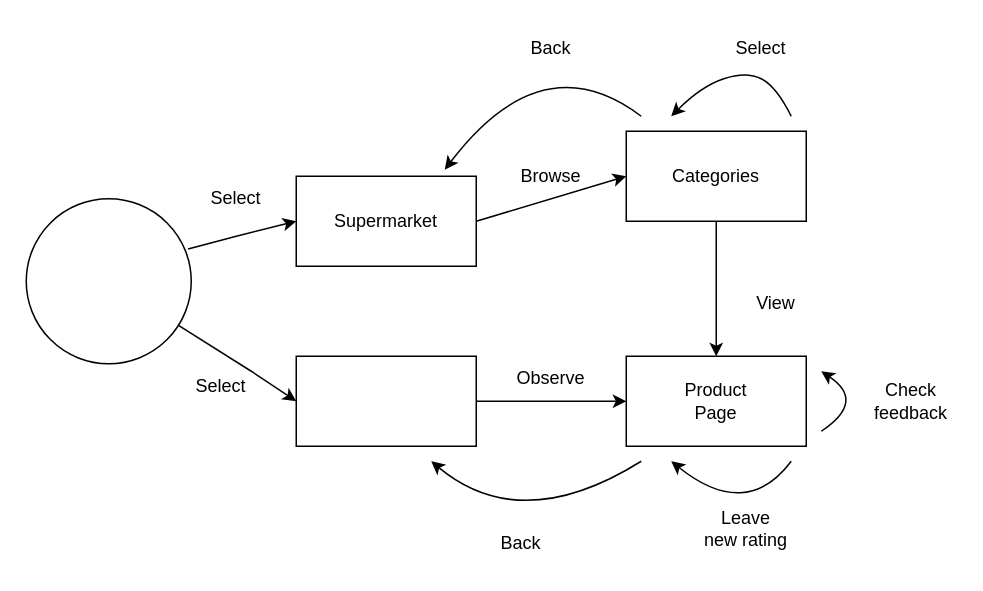
Image size: 983x591. Some labels were removed from this diagram. The box of each missing label's shape, as (x1, y1, x2, y2) in pixels:
Favorites: (295, 355, 476, 446)
Search: (25, 197, 191, 364)
